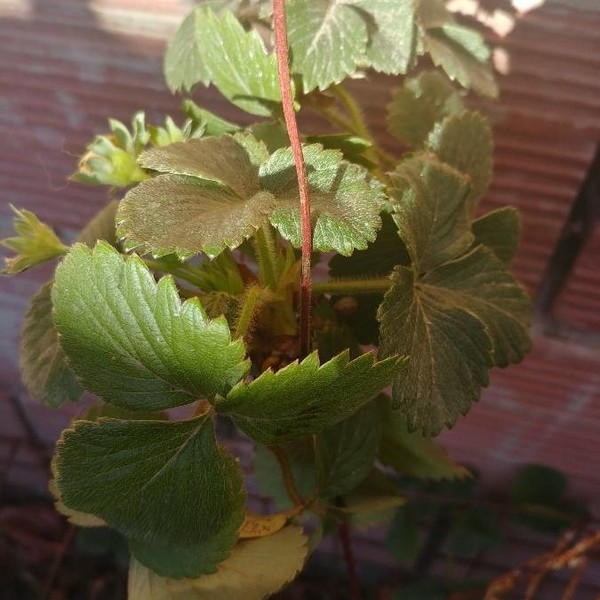obstacle: (57, 10, 490, 532)
